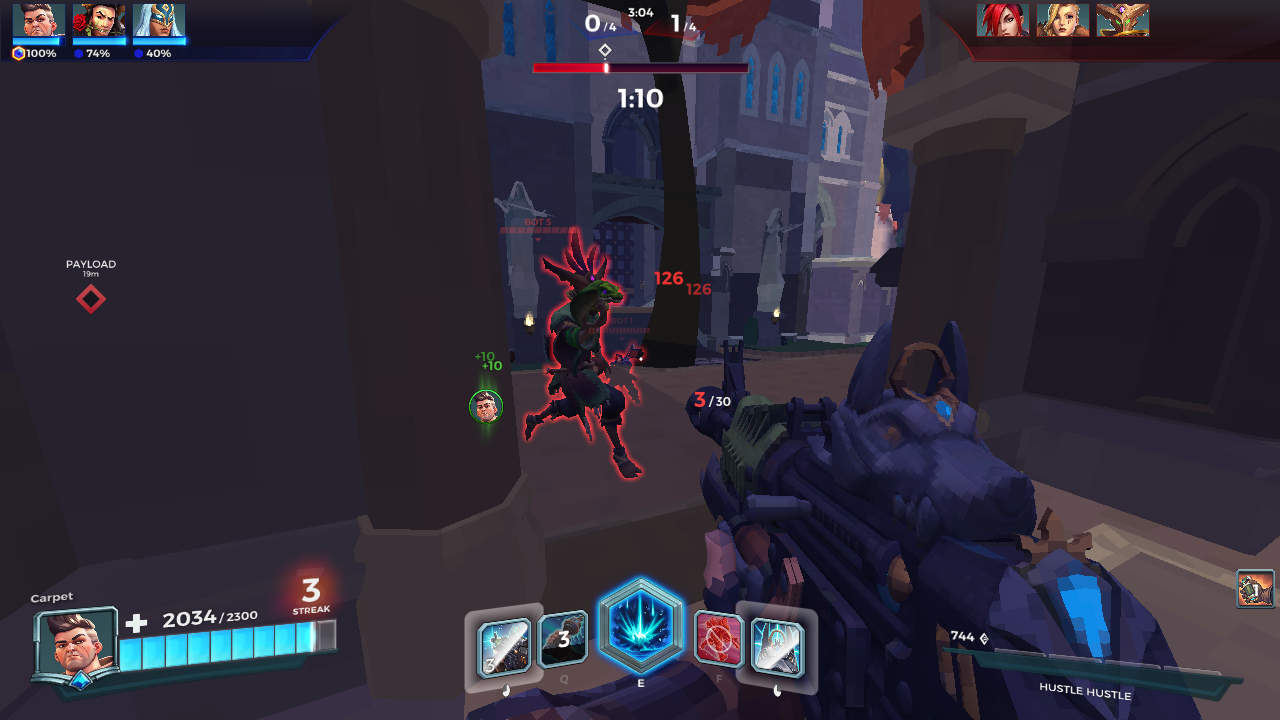model: (520, 251, 646, 485)
